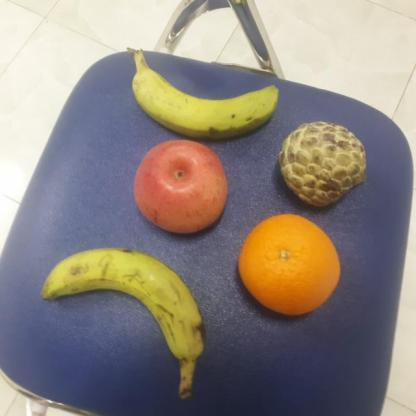annona: (277, 122, 367, 205)
apple: (132, 138, 227, 234)
banana: (41, 237, 204, 398), (126, 46, 278, 139)
orange: (237, 214, 340, 314)
